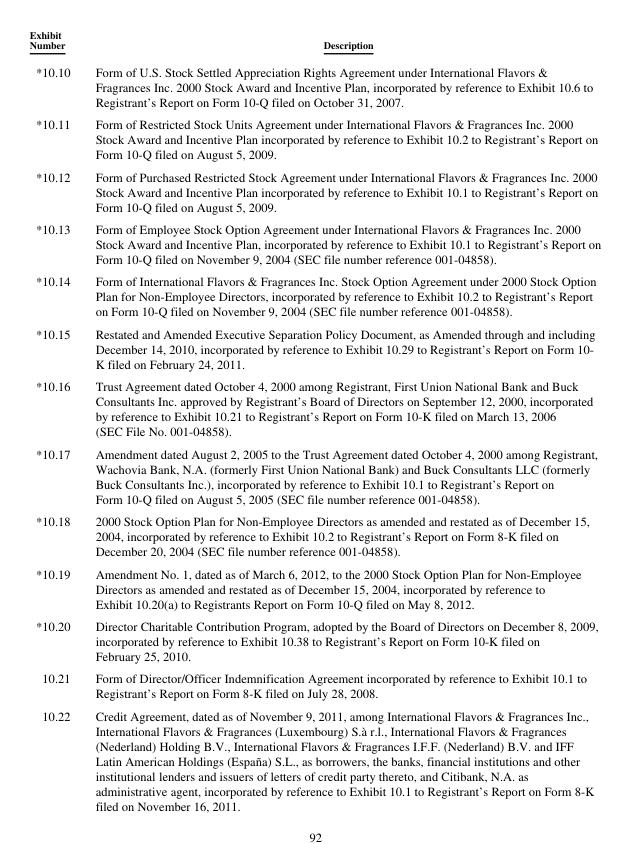table: (28, 28, 600, 812)
table column: (82, 28, 600, 812), (28, 28, 82, 812)
table column header: (28, 28, 600, 57)
table row: (28, 704, 600, 812), (28, 374, 600, 442), (28, 442, 600, 509), (28, 57, 600, 112), (28, 112, 600, 165), (28, 269, 600, 322), (28, 509, 600, 562), (28, 165, 600, 217), (28, 217, 600, 269), (28, 322, 600, 374), (28, 562, 600, 614), (28, 614, 600, 666), (28, 666, 600, 704), (28, 28, 600, 57)
